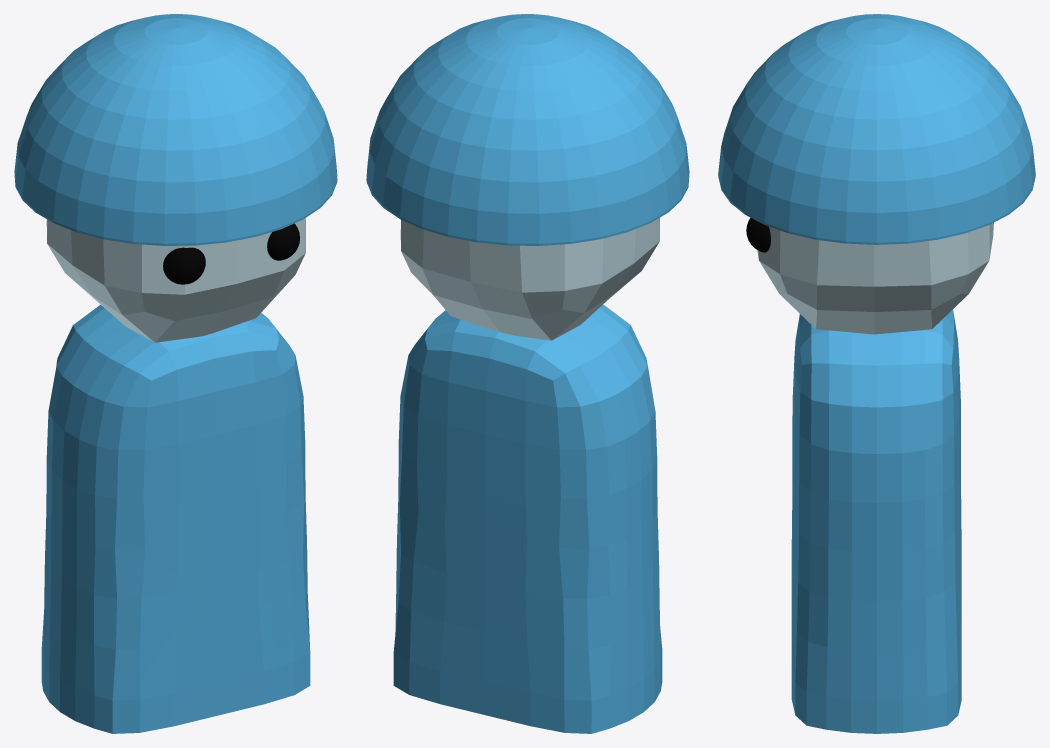
The model's file is SoldierLevel1.fbx.
3 renders of one model, left to right at view 1: azimuth 30°, elevation 25°; view 2: azimuth 150°, elevation 25°; view 3: azimuth 270°, elevation 25°, orthographic.
Parts seen in each view (by area): view 1: BODY, HEAD, SKULL, EYE1, EYE2; view 2: BODY, HEAD, SKULL; view 3: BODY, HEAD, SKULL, EYE2.
Boxes of the visible parts, x1=… form: BODY: x1=41, y1=304, x2=310, y2=733; HEAD: x1=14, y1=14, x2=337, y2=245; SKULL: x1=46, y1=218, x2=305, y2=342; EYE1: x1=163, y1=247, x2=205, y2=284; EYE2: x1=267, y1=223, x2=299, y2=260; BODY: x1=393, y1=304, x2=662, y2=733; HEAD: x1=366, y1=14, x2=689, y2=245; SKULL: x1=400, y1=218, x2=659, y2=340; BODY: x1=791, y1=309, x2=961, y2=733; HEAD: x1=718, y1=14, x2=1035, y2=244; SKULL: x1=757, y1=222, x2=993, y2=334; EYE2: x1=746, y1=217, x2=770, y2=252.
Size of the model in its own units: 91.48 by 206 by 92.68.
